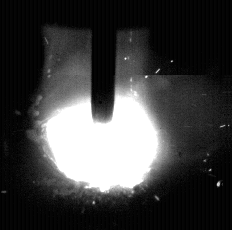arame: (92, 0, 116, 125)
poca: (39, 0, 160, 230)
